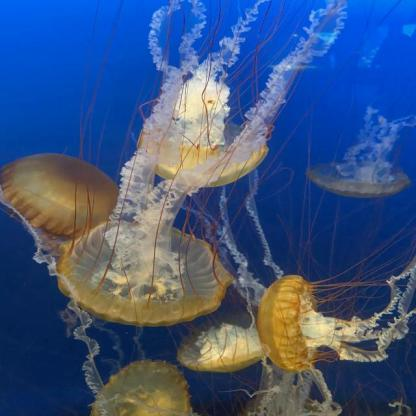jellyfish: (49, 214, 236, 322), (137, 81, 266, 185), (4, 155, 120, 250), (304, 109, 414, 197), (256, 278, 335, 371), (90, 362, 210, 408), (176, 328, 269, 369)
